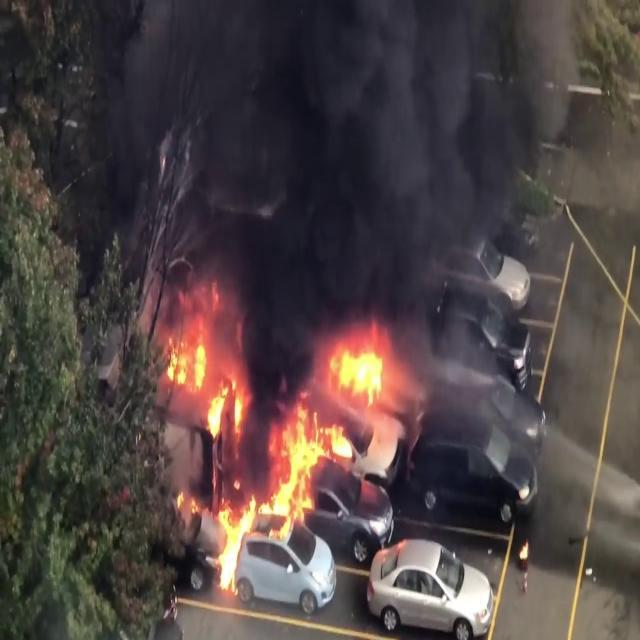Fire: (166, 310, 410, 548), (213, 498, 248, 594)
Smoke: (86, 0, 567, 388)
